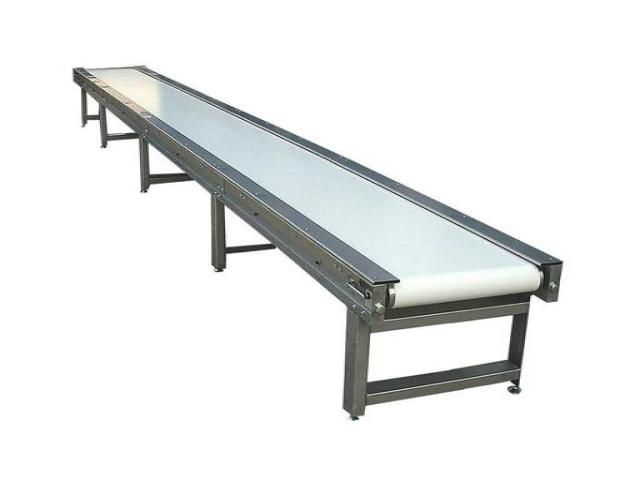conveyor: (67, 62, 565, 421)
